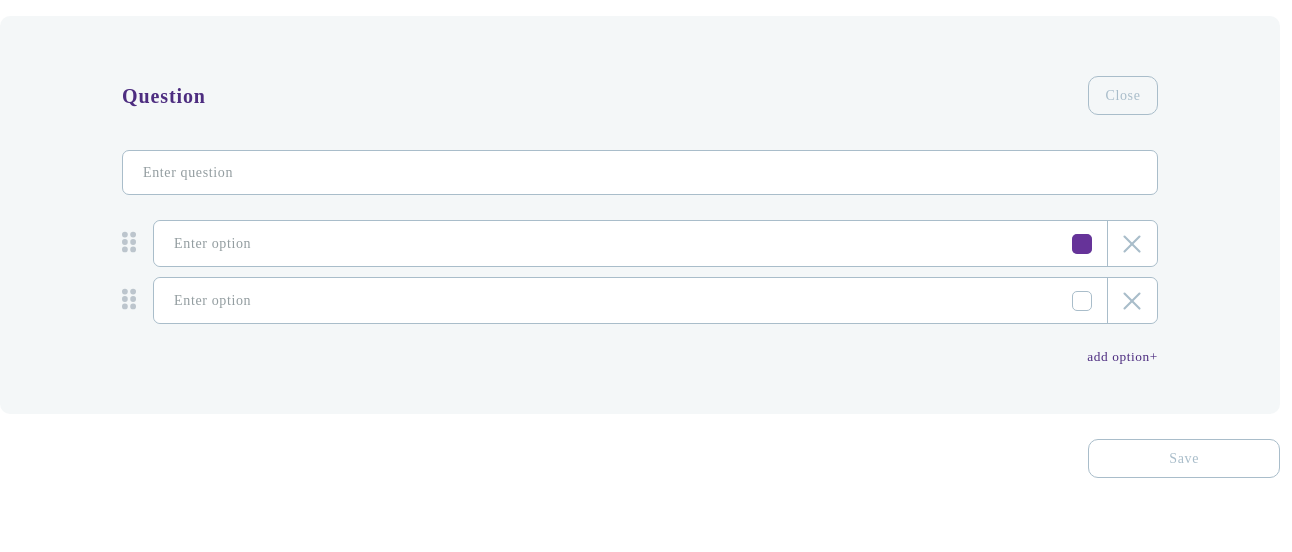
it: Question Component › adds new option
What coordinates should you click on to do the following:
click the button "add option+"
I would click on:
 (1123, 357)
Its box is 1087,349 -> 1158,365.
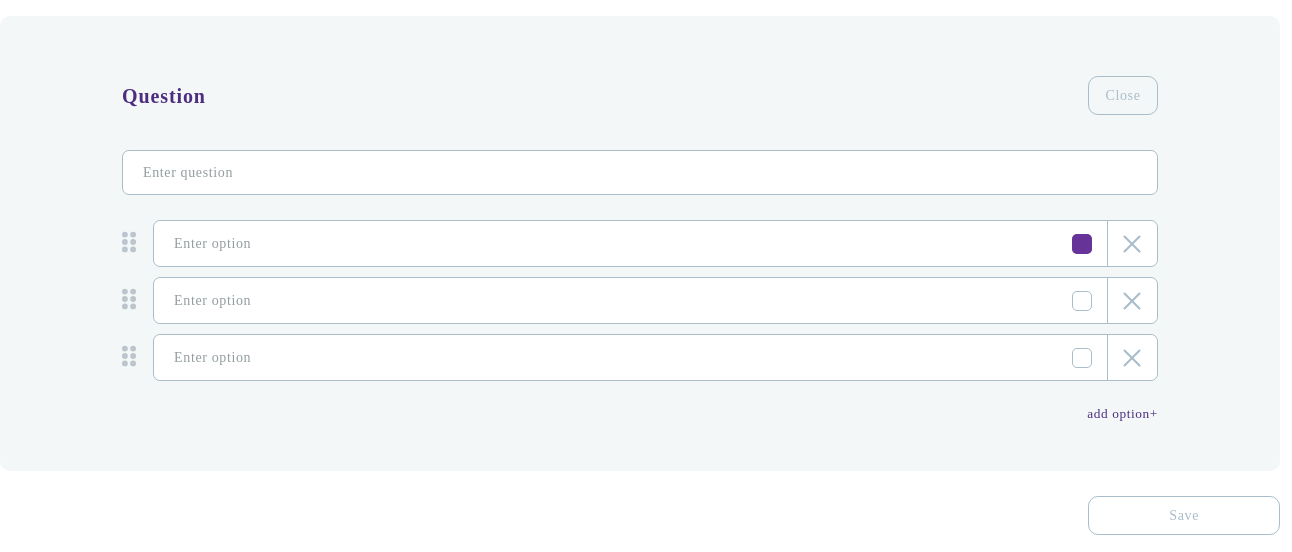
Expected: the number of fields with placeholder "Enter option" is 3, 154,221 -> 1057,266; 154,278 -> 1057,323; 154,335 -> 1057,380
